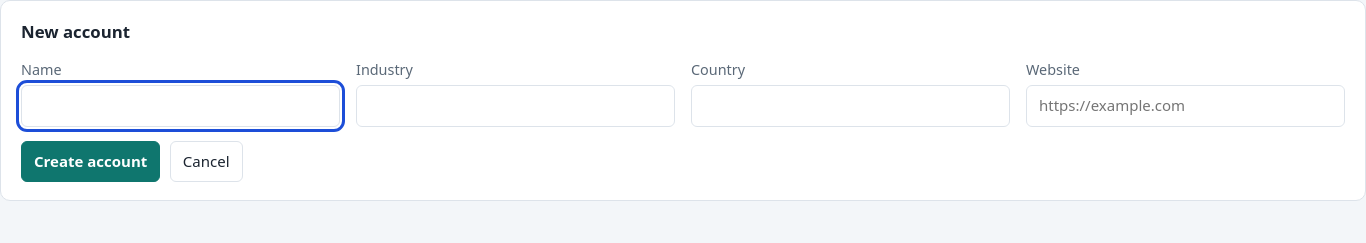
Scenario: AccountForm › puts the server message for each PascalCase field beside its own input
The width and height of the screenshot is (1366, 243).
In the field labelled "Name": (180, 106) [21,85,340,127], type "Proof Co"
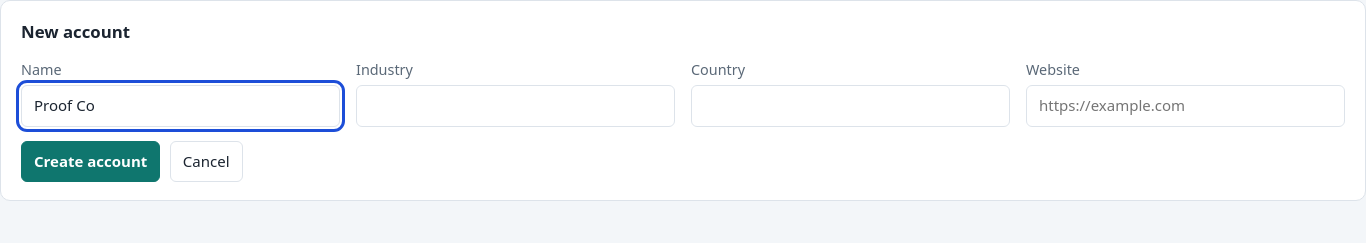
In the field labelled "Website": (1186, 106) [1026,85,1345,127], type "nonsense"
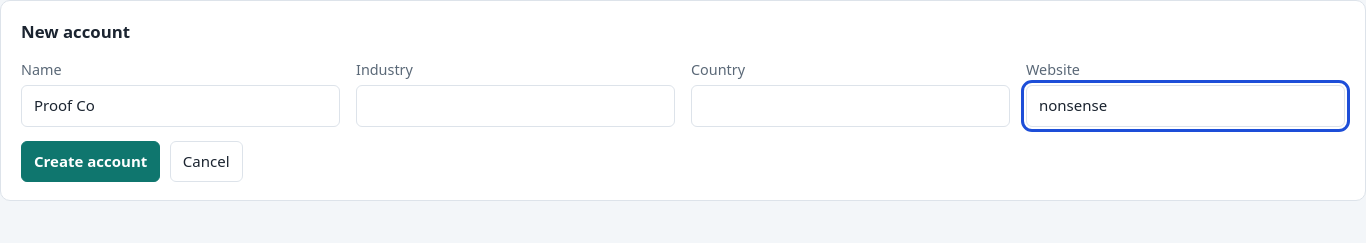
Click the button "Create account": (91, 162) [21,141,160,182]
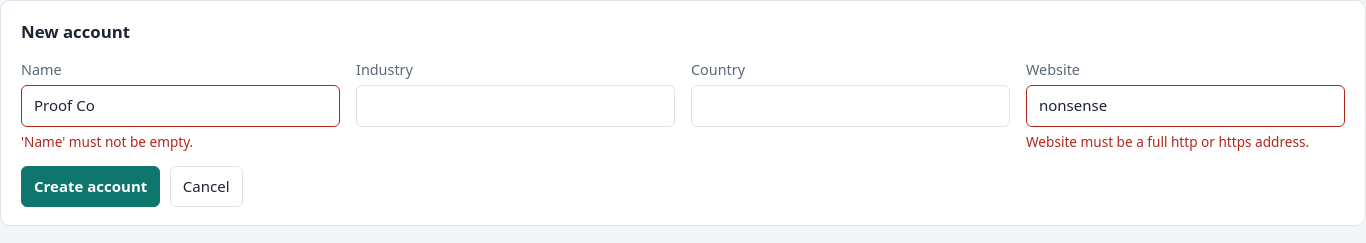
Expected: the text "Website must be a full http or https address." is shown, [1026,131,1345,152]
Expected: the text "'Name' must not be empty." is shown, [21,132,193,151]
